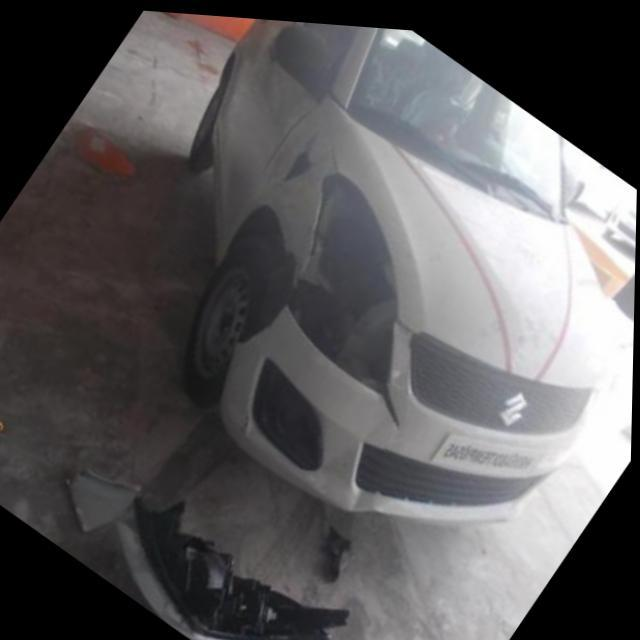crack: (378, 372, 402, 428)
no part: (288, 166, 397, 391), (249, 354, 323, 470), (237, 241, 302, 344), (279, 130, 323, 183)
